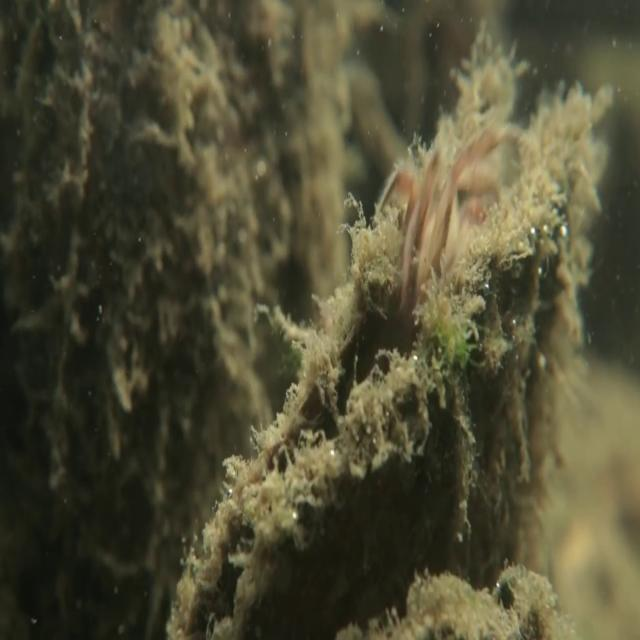Oyster-Open: (181, 98, 583, 635)
